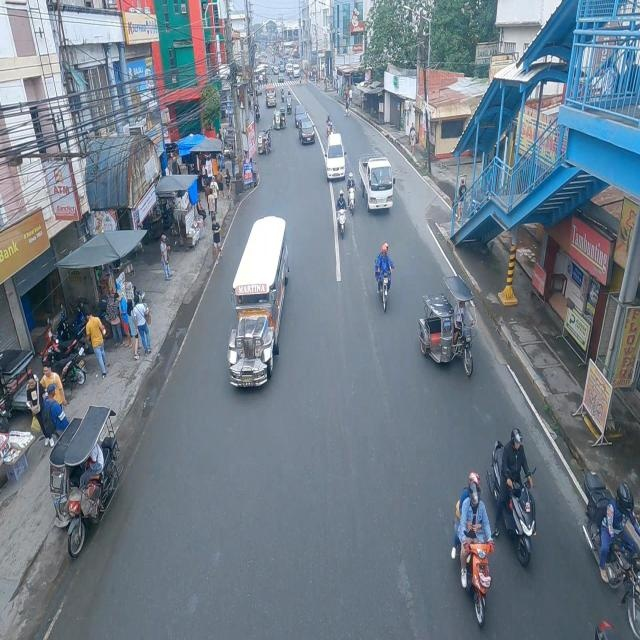Motorcycle: (581, 470, 640, 640), (486, 428, 540, 570), (450, 466, 494, 631), (374, 242, 394, 316), (335, 190, 348, 240), (346, 174, 357, 218)
Truck: (357, 153, 395, 214)
